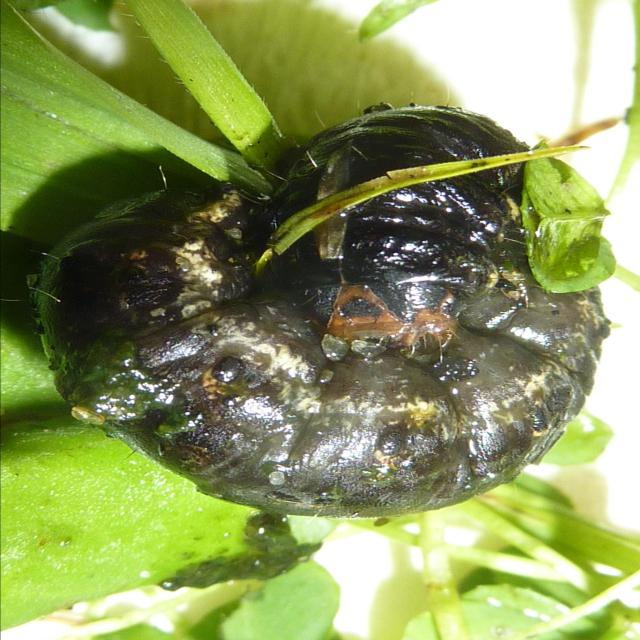black cutworm: (34, 106, 611, 522)
